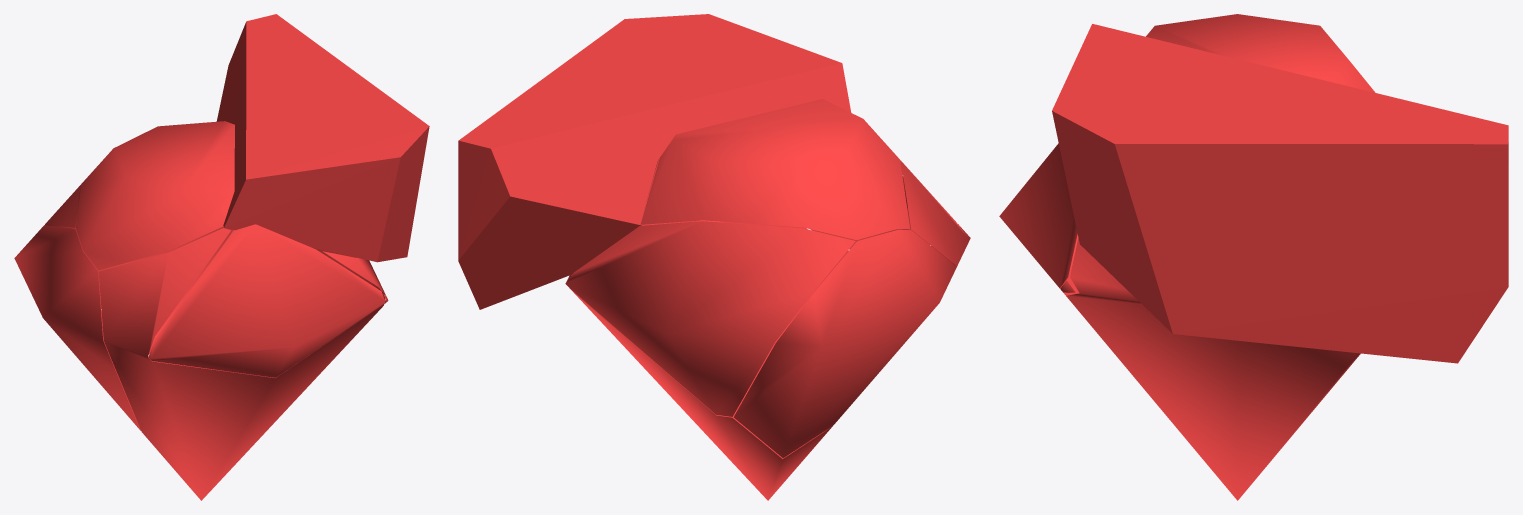
The model's file is diamondpieces.fbx.
3 renders of one model, left to right at view 1: azimuth 30°, elevation 25°; view 2: azimuth 150°, elevation 25°; view 3: azimuth 270°, elevation 25°, orthographic. The views are drawn at different scales.
Parts seen in each view (by area): view 1: Diamondo5side_cell.005, Diamondo5side_cell, Diamondo5side_cell.004, Diamondo5side_cell.002, Diamondo5side_cell.001, Diamondo5side_cell.003; view 2: Diamondo5side_cell.005, Diamondo5side_cell.003, Diamondo5side_cell.002, Diamondo5side_cell.001, Diamondo5side_cell; view 3: Diamondo5side_cell.005, Diamondo5side_cell, Diamondo5side_cell.002, Diamondo5side_cell.004.
Boxes of the visible parts, left/top/right/bottom form: Diamondo5side_cell.005: left=216, top=14, right=429, bottom=262; Diamondo5side_cell: left=98, top=228, right=385, bottom=500; Diamondo5side_cell.004: left=148, top=224, right=385, bottom=377; Diamondo5side_cell.002: left=75, top=121, right=234, bottom=270; Diamondo5side_cell.001: left=14, top=225, right=140, bottom=430; Diamondo5side_cell.003: left=45, top=185, right=234, bottom=353; Diamondo5side_cell.005: left=458, top=14, right=851, bottom=309; Diamondo5side_cell.003: left=565, top=221, right=855, bottom=416; Diamondo5side_cell.002: left=640, top=99, right=910, bottom=240; Diamondo5side_cell.001: left=733, top=229, right=956, bottom=457; Diamondo5side_cell: left=566, top=160, right=969, bottom=500; Diamondo5side_cell.005: left=1052, top=24, right=1508, bottom=363; Diamondo5side_cell: left=1060, top=234, right=1360, bottom=500; Diamondo5side_cell.002: left=1146, top=14, right=1375, bottom=92; Diamondo5side_cell.004: left=999, top=143, right=1077, bottom=288.
Size of the model in its own units: 77.22 by 79.59 by 78.18.
